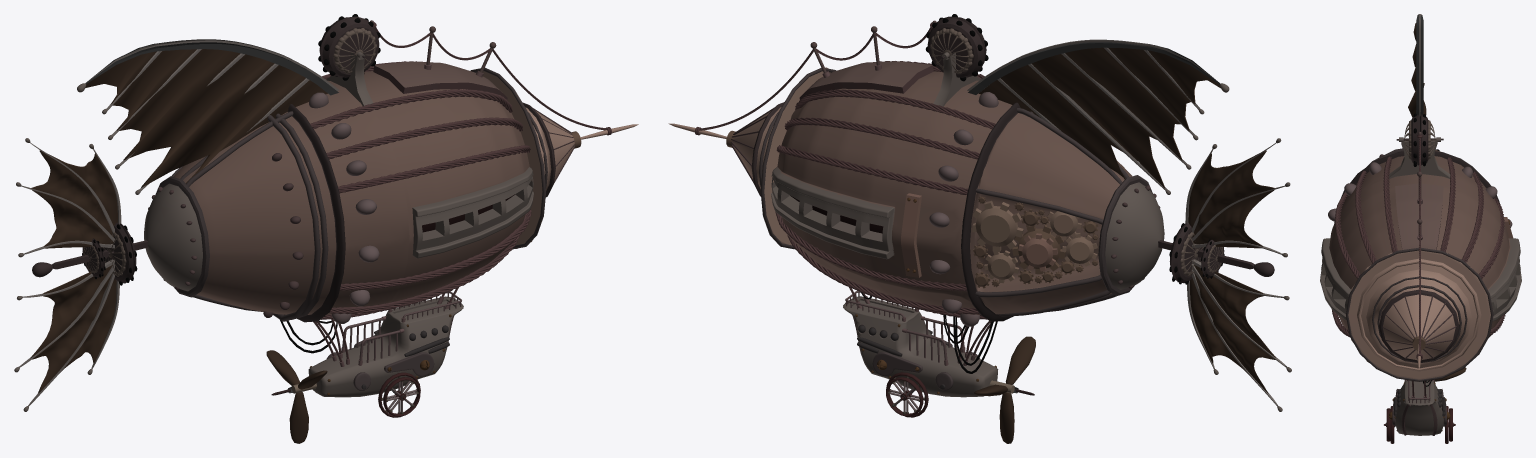
The model's file is tasarim11.glb.
3 renders of one model, left to right at view 1: azimuth 30°, elevation 25°; view 2: azimuth 150°, elevation 25°; view 3: azimuth 270°, elevation 25°, orthographic. The views are drawn at different scales.
Parts seen in each view (by area): view 1: Object_29, Object_19, Object_21, Object_26, Object_39, Object_14, Object_4, Object_47, Object_30, Object_7, Object_48, Object_10 (+10 smaller); view 2: Object_29, Object_19, Object_21, Object_26, Object_14, Object_4, Object_31, Object_39, Object_47, Object_30, Object_32, Object_7 (+15 smaller); view 3: Object_30, Object_29, Object_21, Object_26, Object_10, Object_39, Object_38, Object_37, Object_47, Object_7, Object_48, Object_19 (+7 smaller).
Boxes of the visible parts, bbox=[...] form: Object_29: bbox=[173, 71, 529, 314]; Object_19: bbox=[30, 49, 327, 443]; Object_21: bbox=[14, 52, 534, 411]; Object_26: bbox=[310, 61, 531, 319]; Object_39: bbox=[171, 67, 547, 321]; Object_14: bbox=[19, 39, 339, 406]; Object_4: bbox=[144, 183, 202, 291]; Object_47: bbox=[82, 16, 379, 283]; Object_30: bbox=[476, 71, 638, 248]; Object_7: bbox=[287, 104, 345, 322]; Object_48: bbox=[85, 40, 395, 393]; Object_10: bbox=[375, 61, 502, 92]; Object_29: bbox=[777, 71, 1132, 314]; Object_19: bbox=[974, 47, 1275, 443]; Object_21: bbox=[771, 52, 1291, 411]; Object_26: bbox=[775, 61, 995, 319]; Object_14: bbox=[967, 39, 1286, 406]; Object_4: bbox=[1105, 182, 1164, 289]; Object_31: bbox=[972, 200, 1097, 283]; Object_39: bbox=[759, 68, 1129, 316]; Object_47: bbox=[927, 16, 1224, 283]; Object_30: bbox=[668, 67, 830, 245]; Object_32: bbox=[973, 196, 1098, 288]; Object_7: bbox=[961, 102, 1020, 321]; Object_30: bbox=[1345, 250, 1490, 379]; Object_29: bbox=[1329, 150, 1511, 337]; Object_21: bbox=[1320, 14, 1521, 435]; Object_26: bbox=[1332, 156, 1505, 337]; Object_10: bbox=[1395, 183, 1443, 249]; Object_39: bbox=[1346, 148, 1493, 381]; Object_38: bbox=[1379, 289, 1459, 362]; Object_37: bbox=[1382, 294, 1456, 358]; Object_47: bbox=[1396, 114, 1443, 165]; Object_7: bbox=[1334, 151, 1503, 223]; Object_48: bbox=[1395, 15, 1444, 426]; Object_19: bbox=[1408, 23, 1466, 381].
Size of the model in its own units: 22.82 by 15.18 by 8.05.
